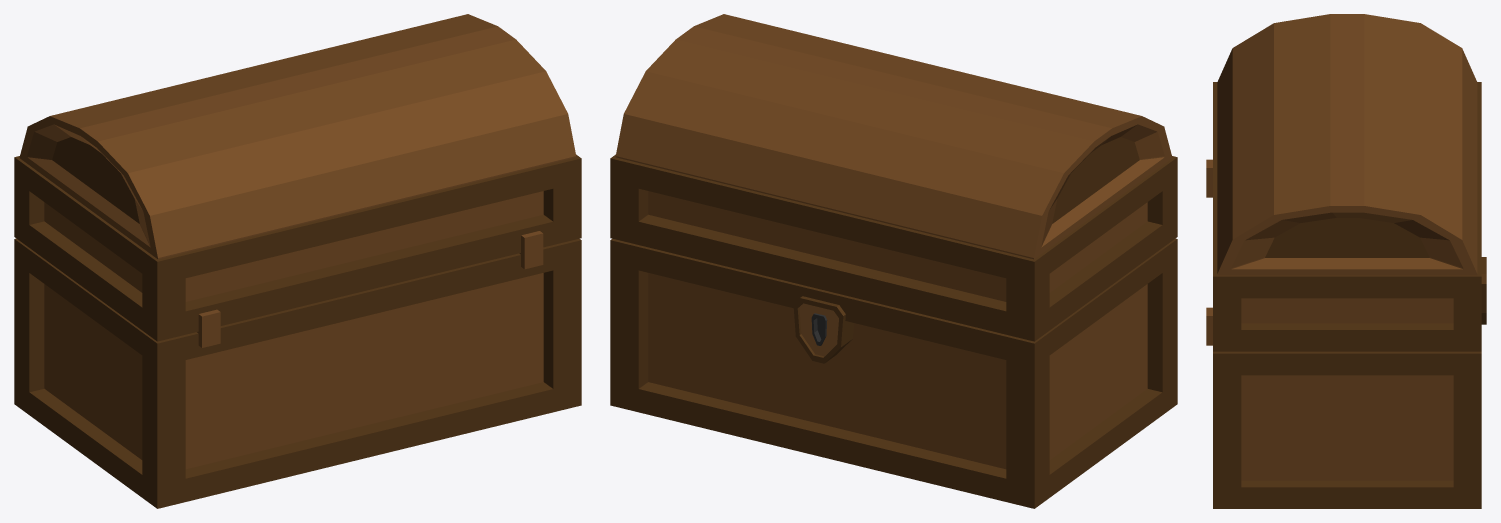
The model's file is G_B_Chest.fbx.
The picture shows the model from 3 angles, left to right: view 1: azimuth 30°, elevation 25°; view 2: azimuth 150°, elevation 25°; view 3: azimuth 270°, elevation 25°; orthographic projection. The views are drawn at different scales.
Parts seen in each view (by area): view 1: G_B_ChestTop, G_B_Chest; view 2: G_B_ChestTop, G_B_Chest; view 3: G_B_ChestTop, G_B_Chest.
Boxes of the visible parts, left/top/right/bottom form: G_B_ChestTop: left=14, top=14, right=581, bottom=341; G_B_Chest: left=14, top=231, right=581, bottom=508; G_B_ChestTop: left=610, top=14, right=1177, bottom=341; G_B_Chest: left=610, top=238, right=1177, bottom=508; G_B_ChestTop: left=1213, top=14, right=1481, bottom=351; G_B_Chest: left=1206, top=159, right=1486, bottom=508.
Size of the model in its own units: 157 by 114 by 95.8.
